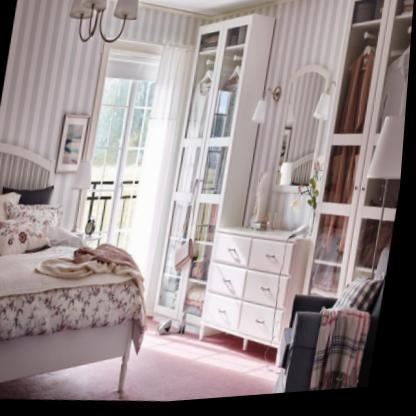Bed: (0, 143, 153, 400)
Carpet: (0, 352, 282, 404)
Sideboard: (205, 233, 307, 372)
Sofa: (278, 241, 396, 398)
Transparent Closet: (158, 17, 268, 344)
